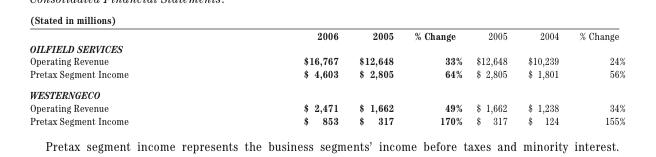table: (29, 28, 624, 126)
table column: (29, 28, 215, 126), (215, 28, 347, 126), (403, 28, 468, 126), (347, 28, 403, 126), (568, 28, 624, 126), (516, 28, 568, 126), (468, 28, 516, 126)
table column header: (29, 28, 624, 41)
table projected row header: (29, 84, 624, 100), (29, 41, 624, 54)
table row: (29, 67, 624, 84), (29, 84, 624, 100), (29, 28, 624, 41), (29, 41, 624, 54), (29, 54, 624, 67), (29, 100, 624, 113), (29, 113, 624, 126)
